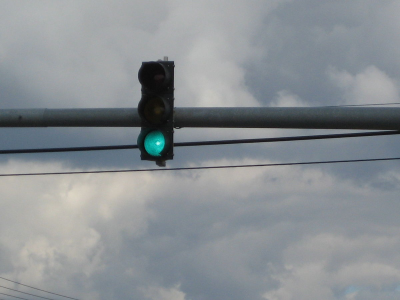trafficlight_green: (138, 63, 169, 156)
